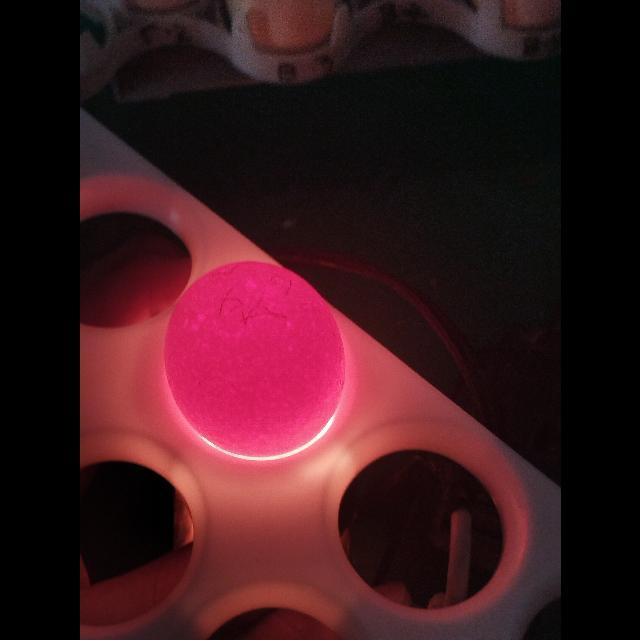Infertile: (158, 254, 348, 463)
